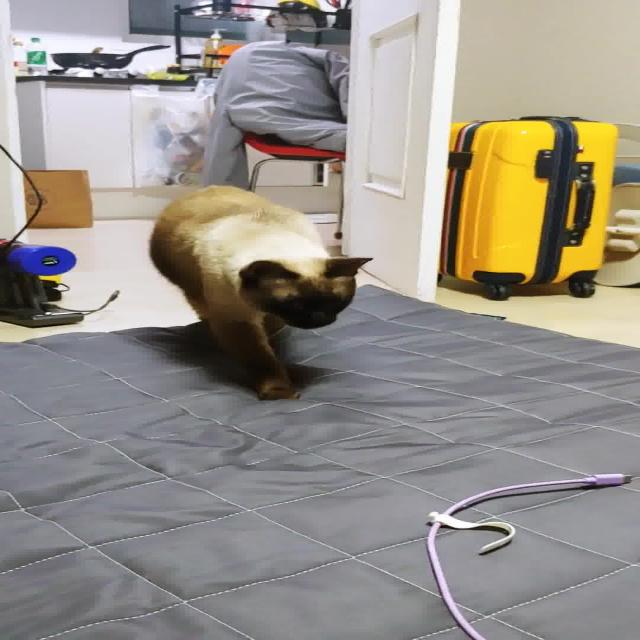cat: (93, 153, 408, 414)
